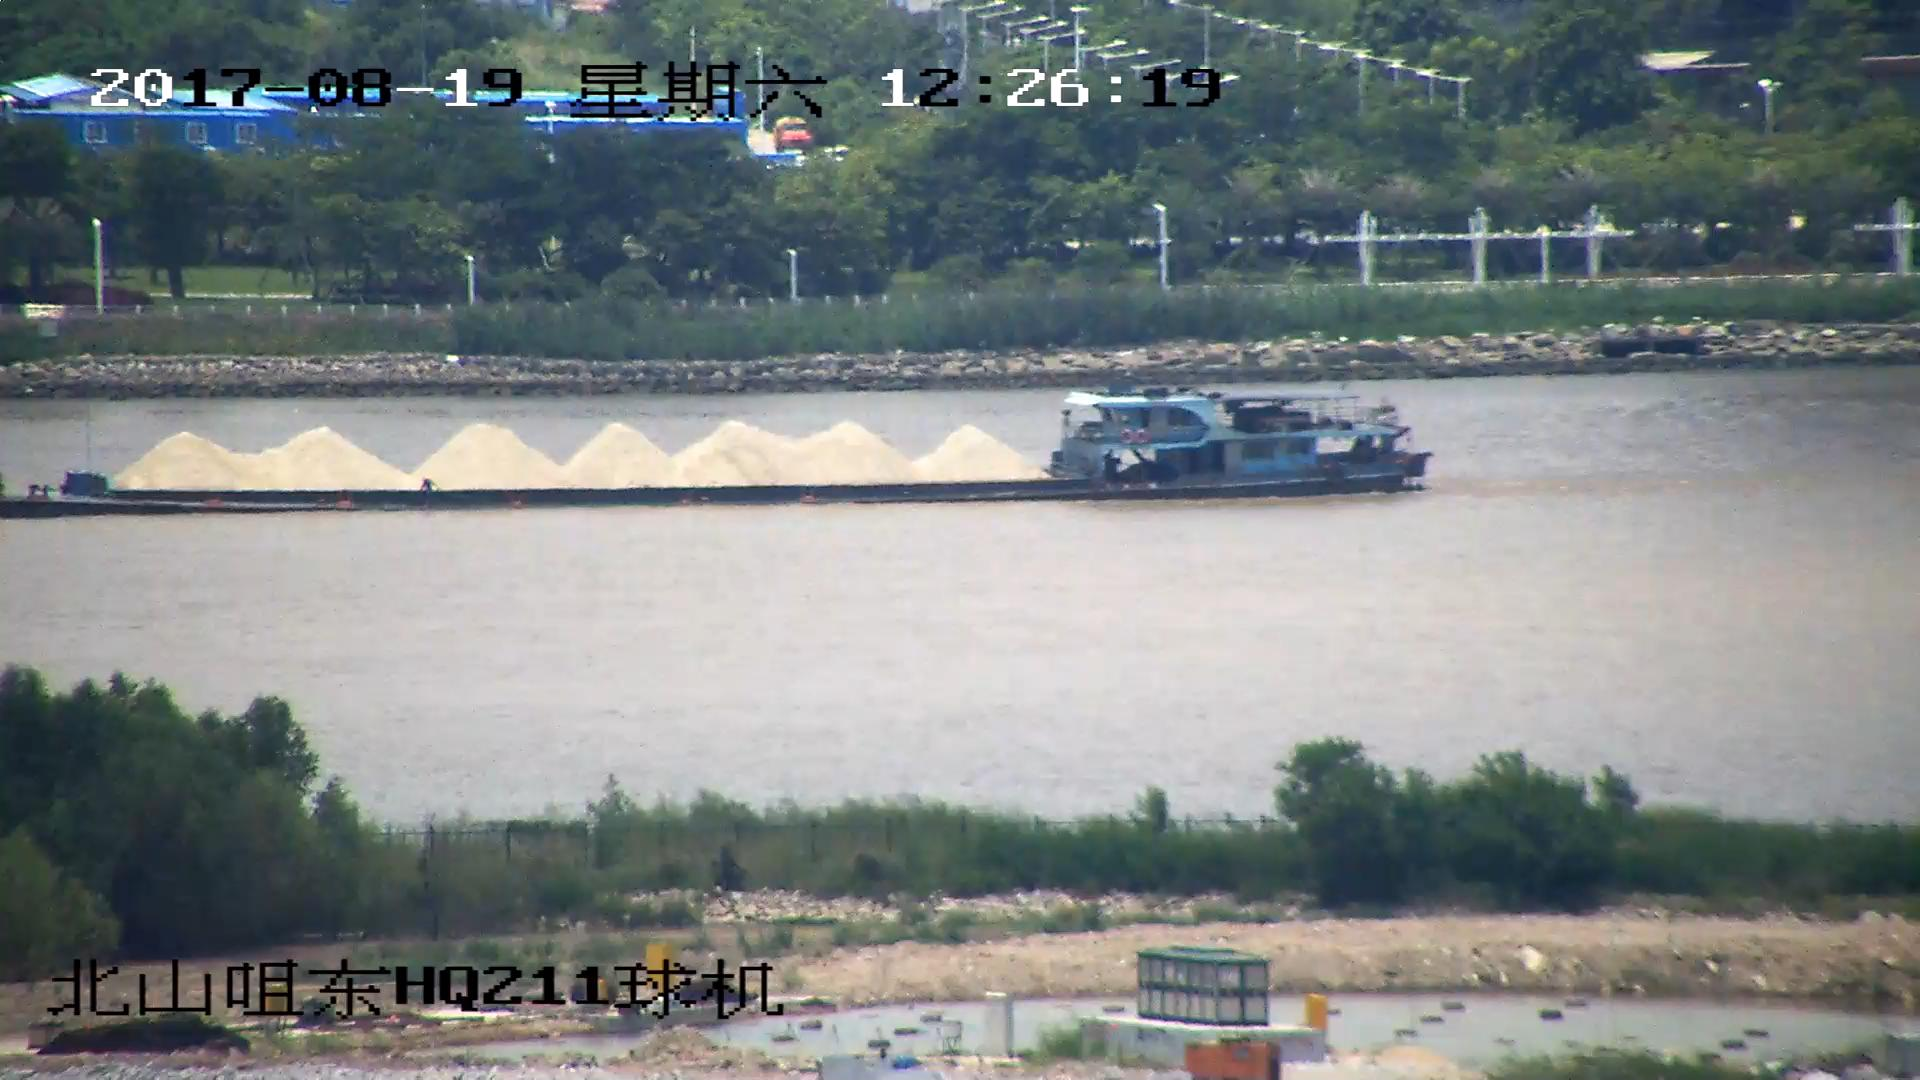ore carrier: (1, 372, 1431, 515)
